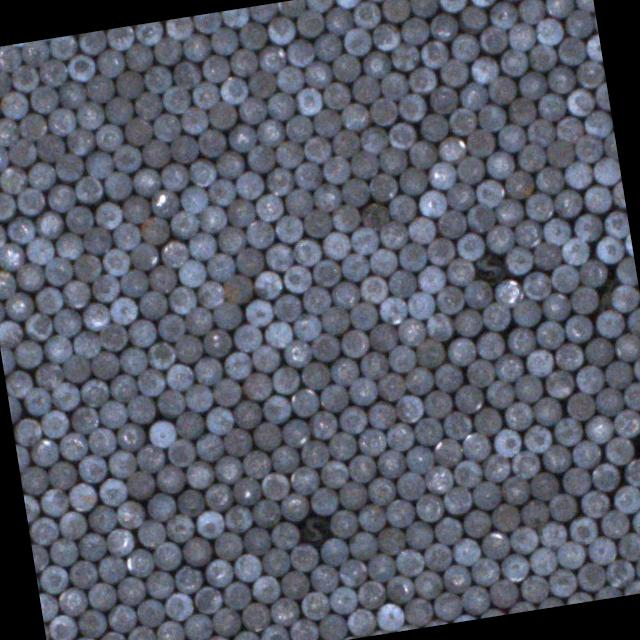tool: (318, 458, 351, 491), (376, 144, 408, 177), (220, 272, 253, 304), (202, 404, 235, 436), (179, 536, 212, 568), (383, 497, 416, 529), (470, 478, 502, 511), (528, 469, 560, 502), (346, 529, 378, 562), (502, 169, 536, 200), (155, 462, 186, 496), (151, 35, 183, 67), (180, 32, 212, 64), (264, 14, 296, 46), (572, 132, 604, 164), (301, 207, 333, 239), (534, 164, 566, 196), (561, 158, 593, 190), (2, 290, 34, 322), (146, 262, 178, 294), (176, 258, 208, 290), (204, 250, 236, 282), (182, 304, 214, 336), (300, 283, 332, 315), (396, 240, 428, 272), (97, 476, 129, 508), (27, 514, 59, 546), (86, 502, 118, 534), (114, 498, 146, 530), (194, 508, 226, 540), (250, 498, 282, 530), (520, 269, 552, 301), (318, 382, 350, 414), (432, 361, 464, 393), (492, 352, 524, 384), (502, 399, 534, 431), (288, 464, 320, 496), (582, 413, 614, 445), (451, 458, 483, 490), (412, 492, 444, 524), (570, 438, 602, 470), (602, 434, 634, 466), (546, 491, 578, 523), (364, 551, 396, 583), (411, 568, 443, 600), (554, 538, 586, 570), (306, 408, 338, 440), (178, 183, 209, 216), (233, 245, 264, 278), (444, 255, 475, 288), (441, 408, 472, 441), (324, 3, 354, 37), (37, 56, 68, 88), (65, 52, 96, 84), (122, 41, 153, 73), (294, 7, 326, 38), (16, 112, 48, 143), (448, 32, 479, 64), (265, 90, 296, 122), (457, 80, 488, 112), (233, 169, 264, 201), (320, 153, 351, 185), (168, 209, 200, 240), (282, 187, 313, 219), (590, 156, 622, 187), (88, 272, 120, 303), (348, 224, 379, 256), (435, 209, 467, 240), (464, 202, 496, 233), (126, 317, 158, 348), (166, 284, 197, 316), (252, 269, 283, 301), (512, 218, 544, 249), (594, 234, 626, 265), (172, 332, 204, 363), (480, 300, 511, 332), (424, 311, 455, 343), (76, 453, 108, 484), (212, 454, 243, 486), (66, 559, 98, 590), (124, 547, 155, 579), (115, 574, 146, 606), (327, 584, 358, 616), (345, 606, 376, 638), (510, 297, 542, 328), (609, 282, 640, 314), (465, 357, 496, 389), (412, 415, 443, 447), (471, 405, 502, 437), (530, 395, 562, 426), (552, 415, 583, 447), (308, 485, 339, 517), (337, 479, 368, 511), (540, 443, 572, 474), (499, 474, 531, 505), (589, 461, 620, 493), (402, 518, 433, 550), (441, 563, 472, 595), (469, 556, 500, 588), (458, 584, 489, 616), (144, 492, 177, 522), (237, 20, 268, 51), (246, 69, 277, 100), (388, 41, 419, 72), (350, 74, 381, 105), (25, 160, 56, 191), (407, 139, 438, 170), (339, 177, 370, 208), (454, 155, 485, 186), (493, 196, 524, 227), (211, 300, 242, 331), (39, 408, 70, 439), (308, 331, 339, 362), (46, 460, 77, 491), (134, 442, 165, 473), (165, 437, 196, 468), (221, 426, 252, 457), (66, 481, 97, 512), (125, 468, 156, 499), (184, 458, 215, 489), (203, 481, 234, 512), (163, 512, 194, 543), (212, 531, 243, 562), (85, 580, 116, 611), (106, 602, 137, 633), (505, 326, 536, 357), (239, 448, 270, 479), (431, 437, 462, 468), (327, 508, 358, 539), (395, 470, 426, 501), (423, 464, 454, 495), (509, 449, 540, 480), (421, 541, 452, 572), (450, 536, 481, 567), (508, 525, 539, 556), (95, 47, 125, 79), (133, 90, 163, 122), (161, 84, 191, 116), (330, 52, 360, 84), (506, 20, 536, 52), (564, 8, 594, 40), (6, 136, 36, 168), (34, 132, 64, 164), (206, 100, 238, 130), (168, 133, 198, 165), (196, 127, 226, 159), (92, 200, 124, 230), (150, 187, 180, 219), (464, 128, 496, 158), (496, 122, 526, 154), (14, 262, 46, 292), (100, 246, 130, 278), (128, 240, 158, 272), (216, 224, 246, 256), (245, 218, 275, 250), (444, 181, 476, 211), (320, 229, 350, 261), (23, 310, 53, 342), (52, 306, 82, 338), (108, 294, 138, 326), (43, 333, 73, 365), (156, 312, 186, 344), (310, 258, 342, 288), (340, 250, 370, 282), (424, 236, 456, 266), (558, 236, 590, 266), (530, 240, 562, 270), (376, 295, 408, 325), (280, 418, 310, 450), (57, 509, 87, 541), (134, 518, 166, 548), (222, 502, 252, 534), (260, 546, 290, 578), (134, 598, 166, 628), (240, 601, 270, 633), (278, 570, 310, 600), (540, 290, 570, 322), (328, 356, 358, 388), (446, 336, 476, 368), (338, 404, 368, 436), (394, 392, 424, 424), (574, 363, 604, 395), (564, 390, 594, 422), (592, 386, 624, 416), (404, 444, 434, 476), (460, 431, 490, 463), (492, 426, 522, 458), (279, 490, 309, 522), (394, 546, 424, 578), (600, 508, 630, 540), (384, 572, 414, 604), (432, 590, 462, 622), (586, 534, 616, 566), (604, 558, 634, 590), (10, 62, 40, 93), (200, 53, 231, 83), (104, 95, 134, 126), (218, 75, 248, 106), (274, 64, 304, 95), (360, 50, 391, 80), (418, 39, 448, 70), (122, 116, 152, 147), (151, 112, 181, 143), (111, 144, 142, 174), (368, 96, 398, 127), (397, 91, 427, 122), (420, 112, 450, 143), (207, 177, 237, 208), (43, 256, 74, 286), (139, 215, 169, 246), (253, 192, 284, 222), (397, 166, 428, 196), (426, 160, 457, 190), (514, 142, 545, 172), (545, 138, 576, 168), (186, 230, 217, 260), (274, 213, 304, 244), (330, 203, 361, 233), (359, 202, 390, 232), (416, 188, 447, 218), (473, 178, 504, 208), (118, 267, 148, 298), (291, 236, 321, 267), (406, 214, 436, 245), (552, 188, 582, 219), (137, 290, 168, 320), (12, 338, 42, 369), (98, 321, 128, 352), (282, 263, 312, 294), (243, 297, 274, 327), (272, 292, 302, 323), (358, 274, 388, 305), (387, 268, 417, 299), (416, 263, 446, 294), (504, 244, 534, 275), (22, 385, 52, 416), (108, 372, 138, 403), (12, 417, 42, 448), (58, 586, 88, 617), (163, 362, 194, 392), (406, 289, 436, 320), (452, 308, 483, 338), (242, 371, 272, 402), (299, 361, 330, 391), (29, 437, 60, 467), (261, 394, 292, 424), (20, 465, 50, 496), (252, 421, 282, 452), (39, 487, 69, 518), (152, 540, 182, 571), (260, 471, 290, 502), (144, 569, 174, 600), (288, 542, 318, 573), (318, 536, 349, 566), (75, 608, 106, 638), (268, 596, 299, 626), (299, 590, 330, 620), (356, 579, 386, 610), (492, 278, 523, 308), (550, 262, 580, 293), (577, 258, 608, 288), (568, 284, 598, 315), (358, 350, 389, 380), (414, 338, 445, 368), (347, 376, 378, 406), (376, 371, 406, 402), (403, 366, 434, 396), (552, 341, 583, 371), (594, 308, 624, 339), (300, 438, 330, 469), (356, 426, 386, 457), (384, 421, 414, 452), (453, 383, 483, 414), (543, 368, 574, 398), (602, 358, 632, 389), (522, 423, 552, 454), (366, 475, 396, 506), (441, 485, 472, 515), (480, 453, 510, 484), (432, 514, 462, 545), (579, 489, 610, 519), (568, 515, 598, 546), (374, 601, 404, 632), (402, 597, 433, 627), (499, 552, 529, 583), (518, 574, 549, 604), (576, 561, 606, 592), (400, 14, 429, 46), (311, 106, 340, 138), (246, 142, 275, 174), (196, 278, 225, 310), (464, 278, 493, 310), (231, 474, 260, 506), (611, 407, 640, 439), (208, 25, 238, 55), (351, 0, 381, 30), (28, 84, 58, 114), (84, 74, 114, 104), (142, 64, 172, 94), (170, 60, 200, 90), (284, 38, 314, 68), (312, 32, 342, 62), (341, 26, 371, 56), (370, 21, 400, 51), (428, 12, 458, 42), (190, 80, 220, 110), (301, 60, 331, 90), (534, 16, 564, 46), (94, 122, 124, 152), (438, 58, 468, 88), (556, 36, 586, 66), (54, 152, 84, 182), (84, 150, 114, 180), (140, 138, 170, 168), (545, 64, 575, 94), (34, 210, 64, 240), (24, 235, 54, 265), (54, 231, 84, 261), (386, 120, 416, 150), (564, 88, 594, 118), (264, 166, 294, 196), (292, 160, 322, 190), (437, 135, 467, 165), (526, 118, 556, 148), (81, 224, 111, 254), (196, 203, 226, 233), (224, 198, 254, 228), (312, 182, 342, 212), (368, 172, 398, 202), (484, 150, 514, 180), (72, 253, 102, 283), (158, 239, 188, 269), (34, 285, 64, 315), (378, 220, 408, 250), (72, 330, 102, 360), (330, 280, 360, 310), (368, 246, 398, 276), (454, 232, 484, 262), (484, 224, 514, 254), (541, 217, 571, 247), (572, 212, 602, 242), (90, 350, 120, 380), (118, 346, 148, 376), (50, 380, 80, 410), (38, 564, 68, 594), (200, 327, 230, 357), (232, 322, 262, 352), (348, 300, 378, 330), (340, 328, 370, 358), (368, 322, 398, 352), (434, 284, 464, 314), (396, 317, 426, 347), (69, 404, 99, 434), (97, 398, 127, 428), (183, 383, 213, 413), (58, 431, 88, 461), (194, 432, 224, 462), (48, 537, 78, 567), (76, 531, 106, 561), (104, 526, 134, 556), (97, 554, 127, 584), (269, 520, 299, 550), (250, 574, 280, 604), (221, 580, 251, 610), (210, 606, 240, 636), (310, 563, 340, 593), (475, 330, 505, 360), (534, 320, 564, 350), (524, 348, 554, 378), (269, 444, 299, 474), (327, 430, 357, 460), (422, 388, 452, 418), (485, 379, 515, 409), (512, 374, 542, 404), (346, 454, 376, 484), (376, 448, 406, 478), (356, 502, 386, 532), (461, 508, 491, 538), (490, 502, 520, 532), (480, 530, 510, 560), (537, 520, 567, 550), (488, 578, 518, 608), (546, 568, 576, 598), (254, 117, 285, 146), (340, 101, 369, 132), (535, 92, 566, 121), (349, 149, 378, 180), (61, 279, 90, 310), (81, 300, 110, 331), (62, 352, 91, 383), (387, 342, 416, 373), (367, 401, 398, 430), (528, 545, 557, 576), (0, 89, 28, 121), (114, 68, 142, 100), (284, 112, 312, 144), (518, 70, 546, 102), (229, 48, 258, 78), (257, 44, 286, 74), (459, 4, 488, 34), (488, 1, 518, 30), (478, 24, 507, 54), (321, 81, 350, 111), (379, 71, 408, 101), (469, 55, 498, 85), (488, 76, 517, 106), (574, 60, 604, 89), (15, 187, 45, 216), (64, 204, 93, 234), (160, 162, 189, 192), (358, 125, 388, 154), (476, 103, 506, 132), (506, 96, 536, 125), (582, 109, 612, 138), (388, 194, 417, 224), (263, 243, 293, 272), (524, 192, 553, 222), (80, 378, 109, 408), (146, 340, 176, 369), (211, 377, 241, 406), (271, 366, 300, 396), (114, 422, 144, 451), (174, 410, 203, 440), (290, 388, 319, 418), (242, 526, 271, 556), (173, 565, 203, 594), (204, 558, 233, 588), (232, 552, 261, 582), (164, 591, 194, 620), (338, 558, 368, 587), (584, 336, 613, 366), (561, 466, 590, 496), (66, 126, 94, 157), (131, 168, 162, 196), (583, 183, 611, 214), (136, 367, 164, 398), (46, 612, 77, 640), (317, 612, 348, 640), (612, 483, 640, 514), (179, 106, 208, 135), (429, 86, 458, 115), (292, 312, 321, 341), (222, 351, 251, 380), (283, 339, 312, 368), (183, 611, 212, 640), (376, 526, 405, 555), (48, 106, 76, 136), (74, 102, 104, 130), (236, 96, 266, 124), (406, 65, 436, 93), (226, 124, 256, 152), (6, 216, 36, 244), (47, 183, 75, 213), (74, 174, 102, 204), (122, 194, 150, 224), (554, 116, 584, 144), (112, 220, 140, 250), (602, 210, 630, 240), (193, 356, 221, 386), (88, 426, 116, 456), (233, 400, 261, 430), (107, 449, 135, 479), (176, 488, 204, 518), (564, 313, 592, 343), (520, 499, 548, 529), (613, 331, 640, 362), (57, 80, 86, 108), (528, 44, 557, 72), (103, 170, 131, 199), (303, 136, 332, 164), (448, 107, 476, 136), (264, 319, 292, 348), (252, 344, 280, 373), (126, 394, 155, 422), (148, 419, 176, 448), (294, 86, 321, 116), (22, 39, 50, 67), (499, 49, 527, 77), (188, 159, 216, 187), (276, 140, 304, 168), (35, 362, 63, 390), (194, 586, 222, 614), (5, 369, 32, 398), (157, 389, 186, 416), (48, 35, 78, 61), (106, 26, 136, 52), (0, 164, 26, 194), (614, 256, 638, 288), (216, 150, 243, 178), (332, 129, 359, 157), (321, 304, 348, 332), (164, 16, 193, 42), (0, 240, 24, 271), (287, 616, 318, 640), (78, 30, 106, 56), (379, 0, 409, 24), (616, 531, 640, 561), (0, 318, 23, 348), (154, 618, 185, 640), (134, 22, 162, 46), (516, 0, 544, 24), (193, 12, 221, 35), (0, 44, 21, 73), (583, 33, 603, 63), (621, 456, 640, 487), (249, 3, 278, 23), (220, 8, 248, 28), (407, 0, 438, 18), (258, 622, 289, 640), (622, 380, 640, 411), (276, 0, 306, 18), (543, 0, 573, 18), (0, 117, 18, 147), (125, 623, 156, 640), (40, 592, 58, 620), (602, 131, 618, 161), (24, 492, 40, 522), (592, 584, 622, 600), (594, 82, 610, 110), (32, 542, 48, 570), (0, 190, 14, 221), (437, 0, 467, 14), (0, 270, 15, 298), (611, 180, 626, 208), (625, 308, 640, 336), (305, 0, 333, 14), (1, 345, 14, 375), (0, 67, 12, 98), (97, 629, 129, 640), (622, 578, 640, 596), (229, 630, 260, 640), (630, 506, 640, 537), (466, 0, 499, 9), (333, 0, 363, 9), (573, 0, 595, 12), (631, 354, 640, 383), (0, 143, 8, 174), (202, 634, 232, 640), (0, 221, 5, 249)
tool_b: (468, 247, 510, 284), (296, 512, 332, 546)
void: (628, 431, 640, 461)
